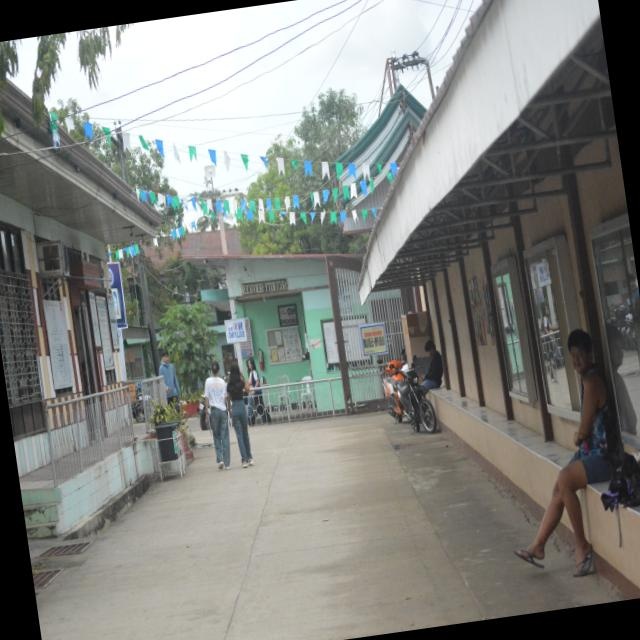person: (514, 330, 618, 577), (203, 361, 229, 469), (226, 361, 252, 467), (158, 351, 180, 406), (422, 340, 442, 390)
